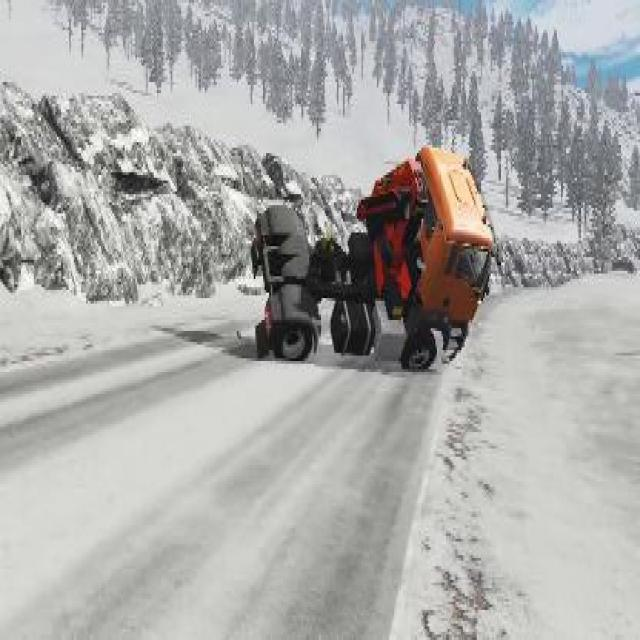accident: (248, 128, 497, 386)
